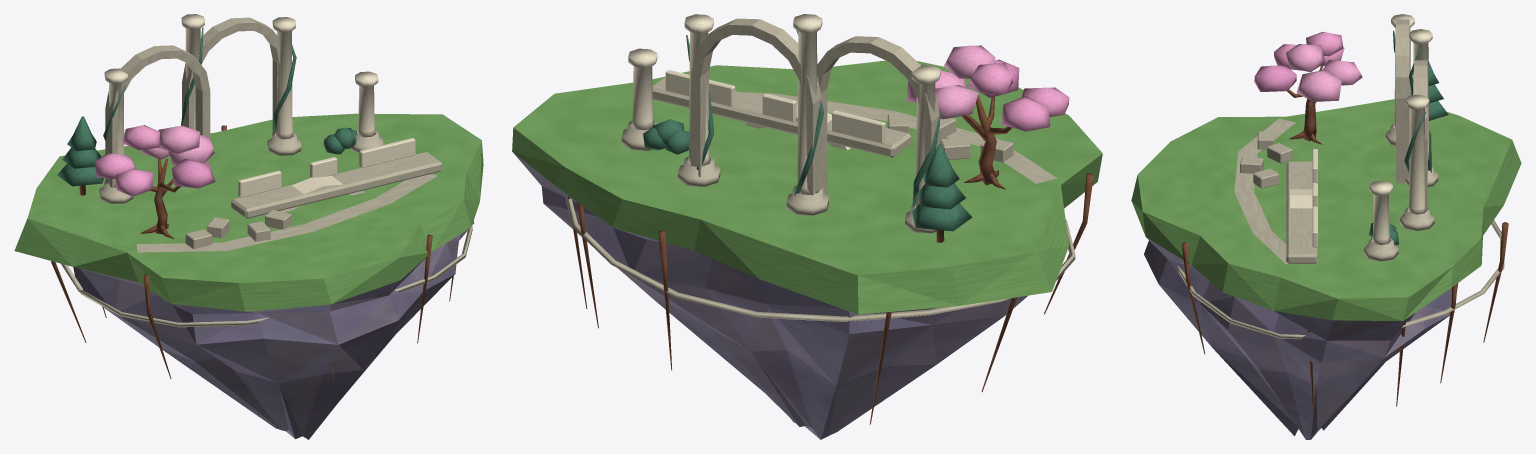
Rendered from sky-ruins-balanced.glb.
3 views of the same model, side by side, from view 1: azimuth 30°, elevation 25°; view 2: azimuth 150°, elevation 25°; view 3: azimuth 270°, elevation 25° (orthographic). The views are drawn at different scales.
Visible parts, largest first — view 1: sky-ruins; view 2: sky-ruins; view 3: sky-ruins.
Boxes of the visible parts, x1=… form: sky-ruins: x1=14, y1=14, x2=483, y2=439; sky-ruins: x1=512, y1=14, x2=1102, y2=439; sky-ruins: x1=1131, y1=14, x2=1521, y2=439.
Size of the model in its own units: 13.64 by 11.58 by 10.83.
7 materials, 7 textured.
